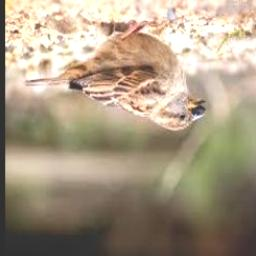Sparrow: (24, 21, 206, 132)
